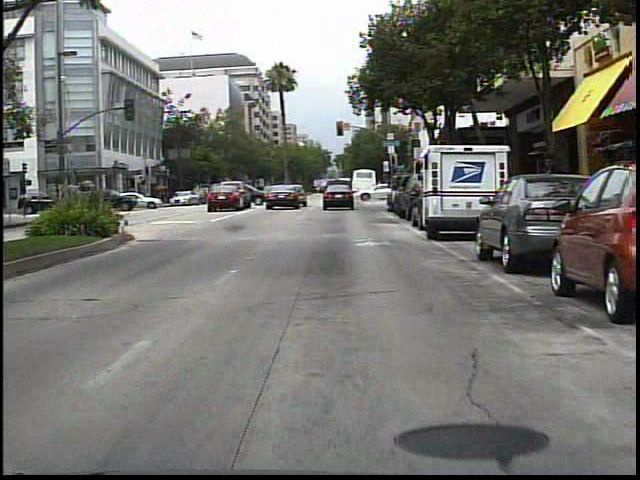person: (532, 149, 564, 239), (261, 182, 262, 206)
